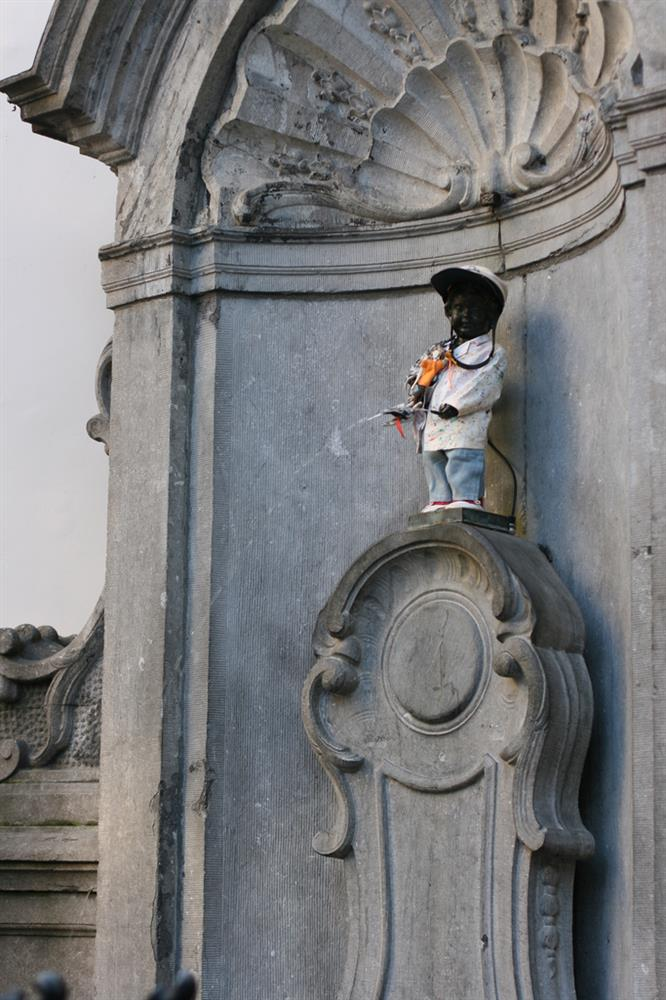Manneken_Pis: (369, 264, 506, 525)
